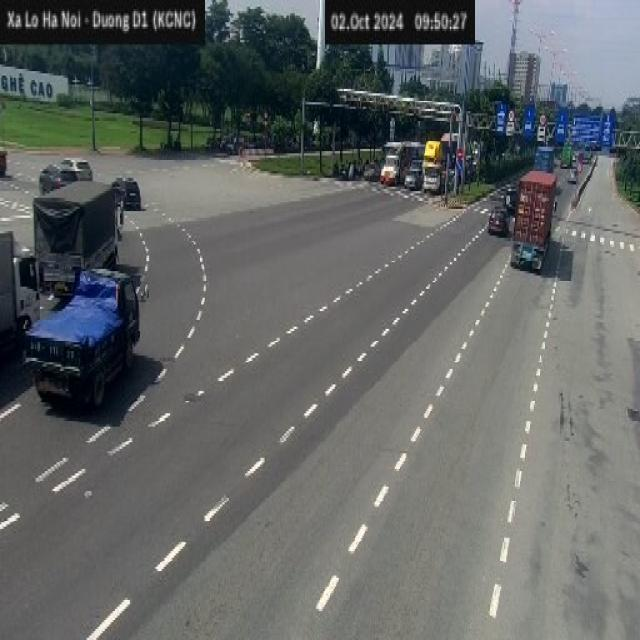container-truck: (510, 169, 558, 271)
truck: (22, 264, 140, 409), (32, 178, 124, 296), (0, 229, 40, 355)
